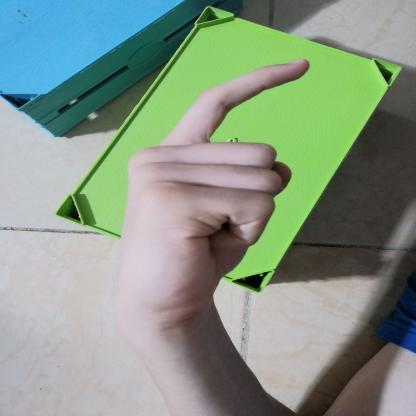RAA: (97, 44, 321, 347)
